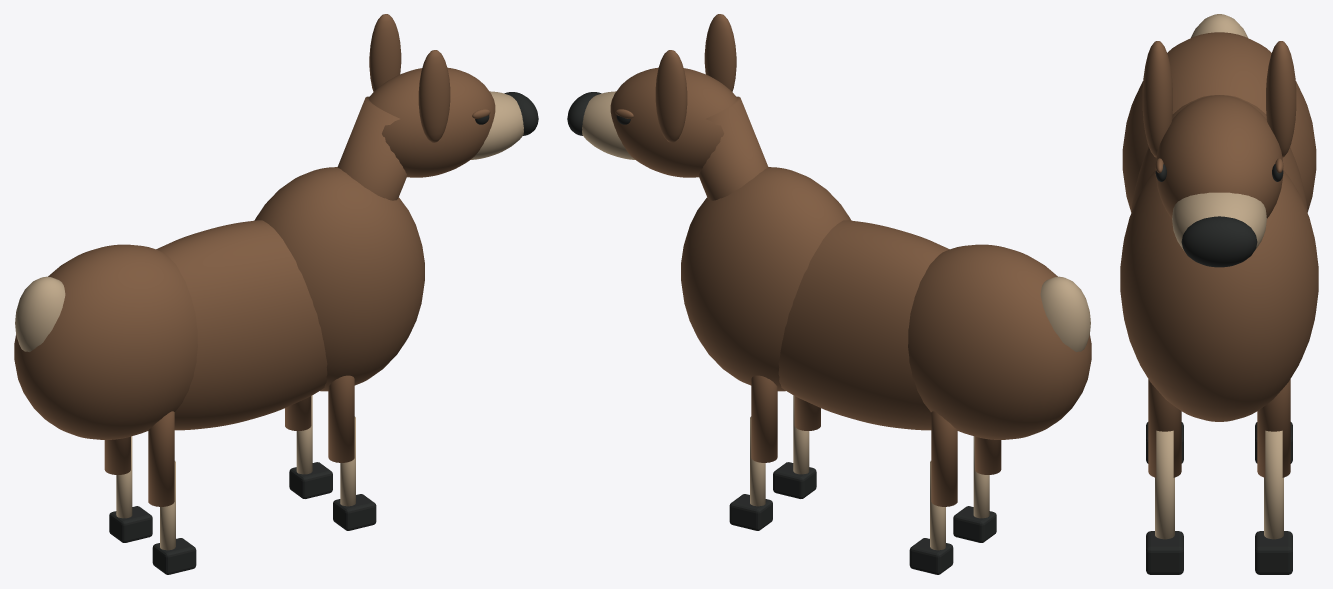
File: deer_aaa_v2.glb
3 views of the same model, side by side, from view 1: azimuth 30°, elevation 25°; view 2: azimuth 150°, elevation 25°; view 3: azimuth 270°, elevation 25° (orthographic). The views are drawn at different scales.
Parts seen in each view (by area): view 1: Rump, Body, Chest, Head, Neck, Tail, Deer_Ear-1, Deer_LegUpper_0, Deer_LegUpper_2, Deer_Ear1, Muzzle, Hoof (+9 smaller); view 2: Rump, Body, Chest, Head, Neck, Tail, Deer_Ear1, Deer_LegUpper_1, Deer_LegUpper_3, Deer_Ear-1, Muzzle, Hoof.001 (+9 smaller); view 3: Chest, Head, Rump, Nose, Muzzle, Deer_Ear-1, Deer_Ear1, Deer_LegLower_2, Deer_LegLower_3, Deer_LegUpper_2, Deer_LegUpper_3, Hoof.002 (+3 smaller).
Boxes of the visible parts, box(x1,y1,x2,y2) form: Rump: box(14, 244, 197, 439); Body: box(156, 220, 327, 430); Chest: box(254, 167, 424, 391); Head: box(368, 67, 495, 177); Neck: box(337, 96, 406, 200); Tail: box(15, 276, 65, 351); Deer_Ear-1: box(418, 50, 450, 142); Deer_LegUpper_0: box(148, 411, 174, 506); Deer_LegUpper_2: box(328, 375, 354, 462); Deer_Ear1: box(369, 14, 401, 91); Muzzle: box(470, 91, 523, 159); Hoof: box(152, 538, 196, 574); Rump: box(908, 244, 1091, 439); Body: box(778, 220, 949, 430); Chest: box(681, 167, 851, 391); Head: box(610, 67, 737, 177); Neck: box(699, 96, 768, 200); Tail: box(1040, 276, 1090, 351); Deer_Ear1: box(655, 50, 687, 142); Deer_LegUpper_1: box(931, 411, 957, 506); Deer_LegUpper_3: box(751, 375, 777, 462); Deer_Ear-1: box(704, 14, 736, 91); Muzzle: box(582, 91, 635, 159); Hoof.001: box(909, 538, 953, 574); Chest: box(1120, 170, 1318, 421); Head: box(1155, 95, 1283, 218); Rump: box(1122, 32, 1316, 211); Nose: box(1181, 216, 1257, 267); Muzzle: box(1172, 192, 1266, 250); Deer_Ear-1: box(1142, 41, 1172, 157); Deer_Ear1: box(1266, 41, 1296, 157); Deer_LegLower_2: box(1155, 430, 1174, 539); Deer_LegLower_3: box(1264, 430, 1283, 539); Deer_LegUpper_2: box(1148, 379, 1181, 477); Deer_LegUpper_3: box(1257, 379, 1290, 477); Hoof.002: box(1146, 531, 1183, 574).
Bounding box in the file's own units: 3.14 × 2.66 × 0.8371.
